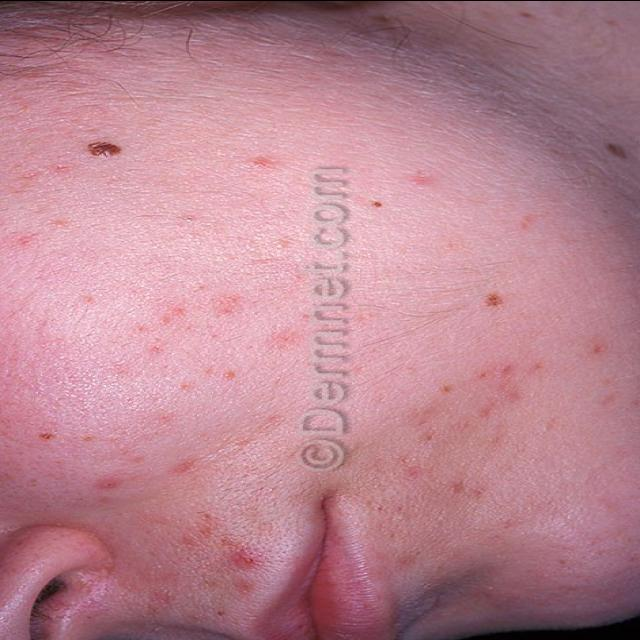Acne: (472, 362, 552, 379), (223, 544, 267, 572), (404, 164, 444, 194), (165, 454, 202, 481), (209, 292, 247, 318), (87, 472, 124, 493), (245, 150, 275, 168)
